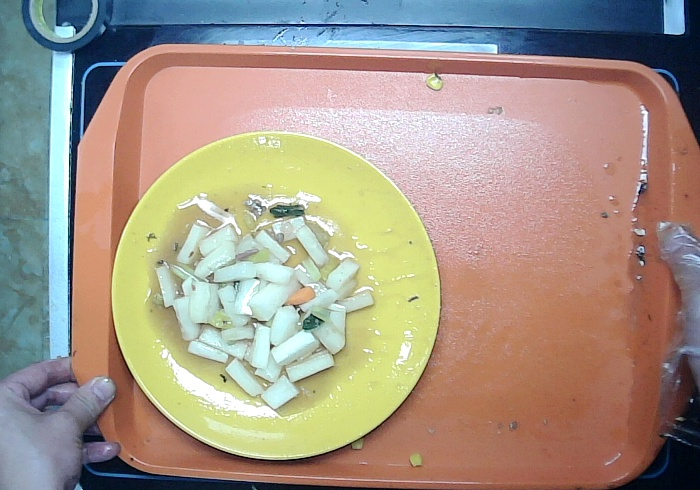HZYJPL-Huang_Se_Yuan_Pan: (102, 130, 445, 471)
